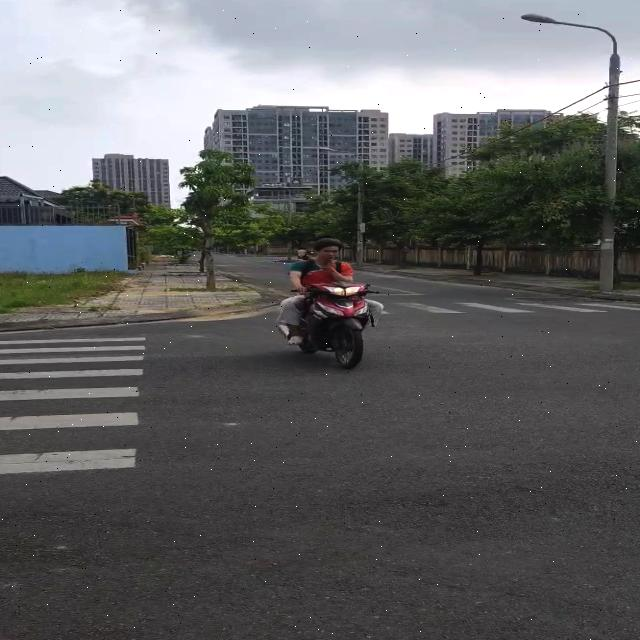no_helmet: (308, 236, 342, 265)
